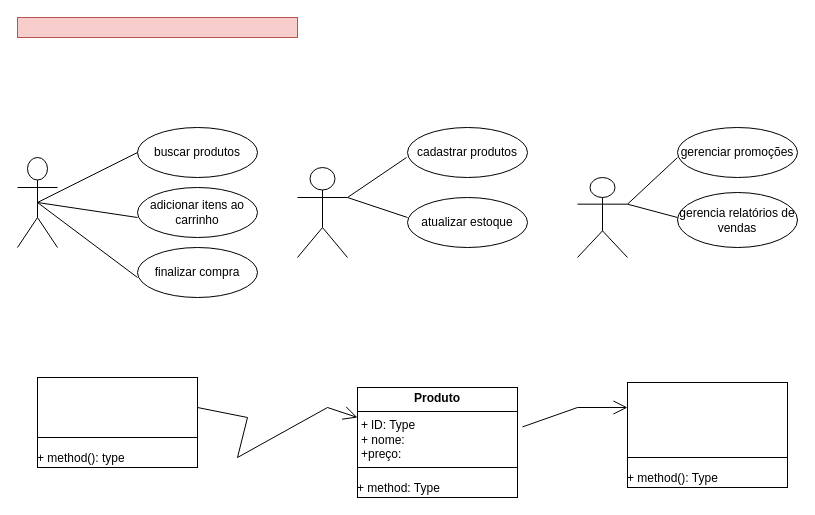
The diagram is 815 pixels wide and 515 high, and some of its shapes have lost their labels. Here are the shapes that lost their labels. From the top down, the centre of each, then its label:
At (157,27): "sistema de e-commerce".
At (37,202): "Cliente".
At (322,212): "Vendedor".
At (602,217): "Actor".
At (117,407): "Cliente + CPF: Type + endereço:".
At (707,420): "Pedido + lD: Type +data: +status:".
